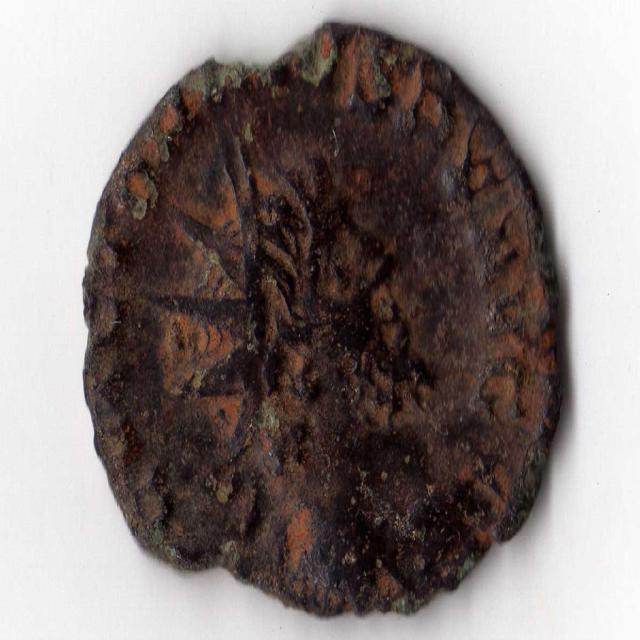Coin: (83, 18, 570, 617)
